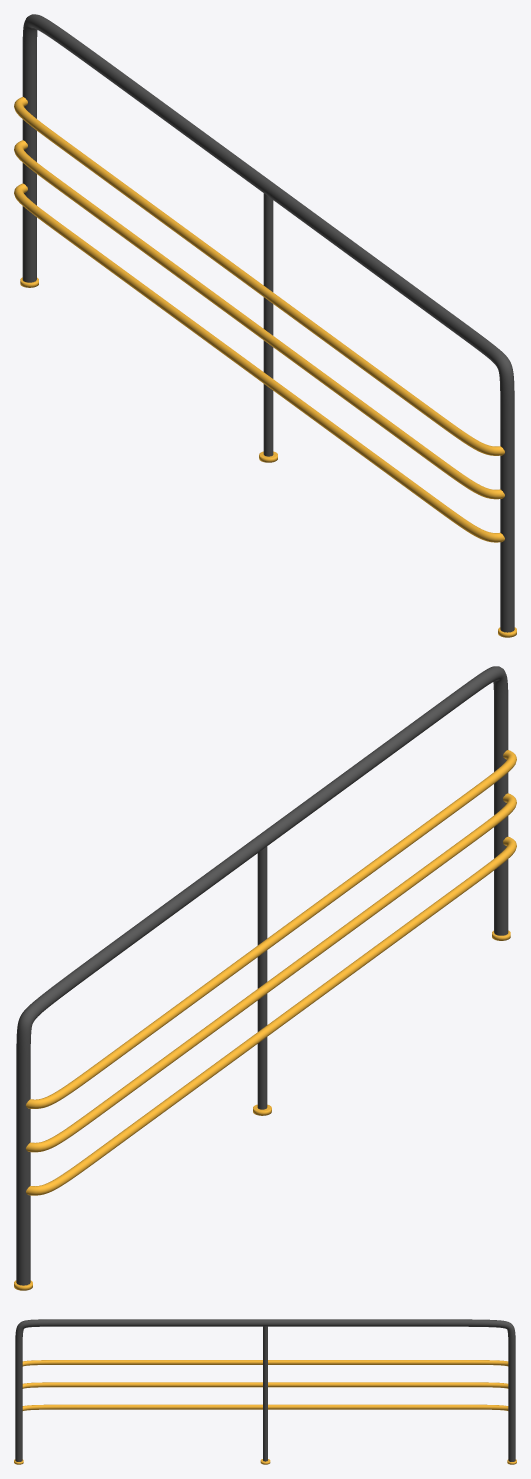
The model's file is Ringhiera4x1.fbx.
3 views of the same model, one above another, from view 1: azimuth 30°, elevation 25°; view 2: azimuth 150°, elevation 25°; view 3: azimuth 270°, elevation 25° (orthographic). The views are drawn at different scales.
Visible parts, largest first — view 1: MainStruct, BarraOriz1, BarraOriz3, BarraOriz2, BarraVert; view 2: MainStruct, BarraOriz1, BarraOriz3, BarraOriz2, BarraVert; view 3: MainStruct, BarraOriz1, BarraOriz2, BarraOriz3, BarraVert.
Boxes of the visible parts, x1,y1,x2,y2 form: MainStruct: (22,14,514,632); BarraOriz1: (14,140,504,499); BarraOriz3: (14,97,504,455); BarraOriz2: (14,183,504,542); BarraVert: (263,193,273,456); MainStruct: (16,666,508,1285); BarraOriz1: (26,793,516,1152); BarraOriz3: (26,750,516,1108); BarraOriz2: (26,836,516,1195); BarraVert: (257,846,267,1109); MainStruct: (15,1319,515,1461); BarraOriz1: (22,1382,508,1388); BarraOriz2: (22,1404,508,1410); BarraOriz3: (22,1360,508,1366); BarraVert: (263,1326,267,1461).
Size of the model in its own units: 15.96 by 128 by 408.
